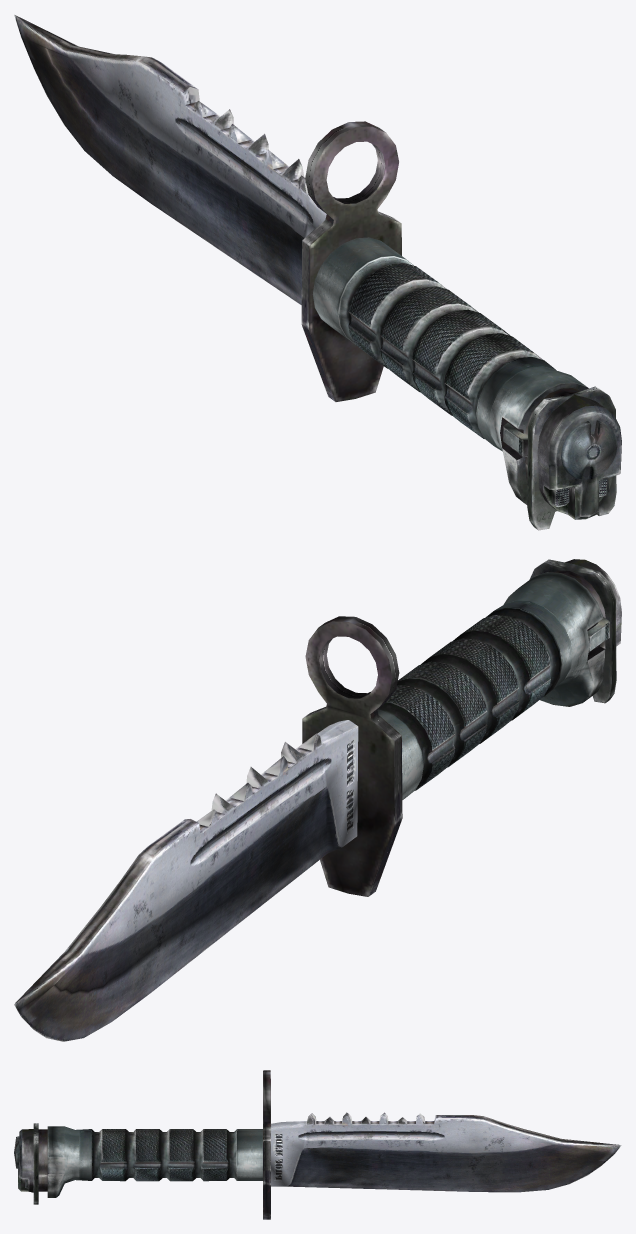
File: wpn_knife_hud.fbx
3 views of the same model, one above another, from view 1: azimuth 30°, elevation 25°; view 2: azimuth 150°, elevation 25°; view 3: azimuth 270°, elevation 25° (orthographic). The views are drawn at different scales.
Visible parts, largest first — view 1: 0; view 2: 0; view 3: 0.
Part boxes in pixels (bbox=[...]): 0: bbox=[14, 14, 621, 530]; 0: bbox=[14, 559, 621, 1041]; 0: bbox=[14, 1070, 621, 1219].
Size of the model in its own units: 0.0246 by 0.0685 by 0.2647.
